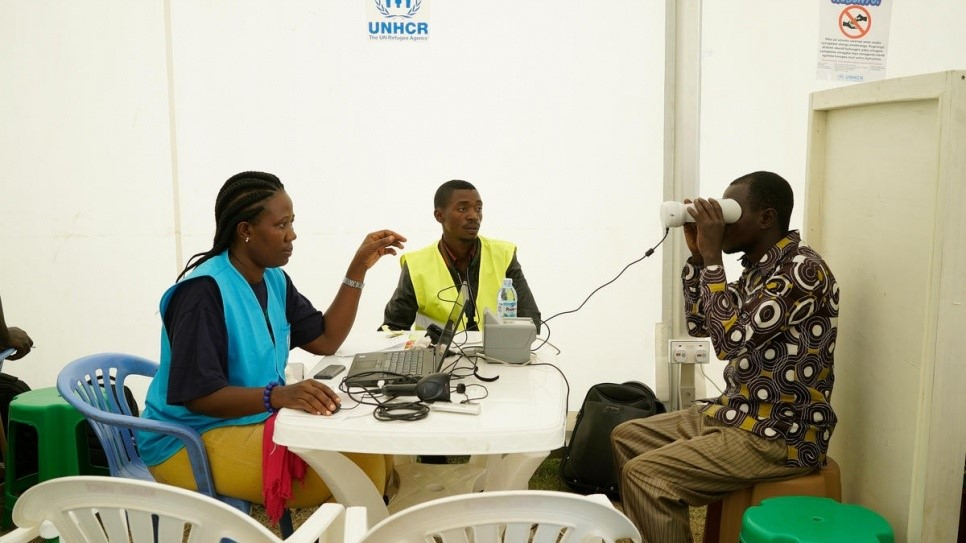face_no_mask: (216, 171, 298, 267), (723, 172, 793, 253), (435, 181, 483, 241)
